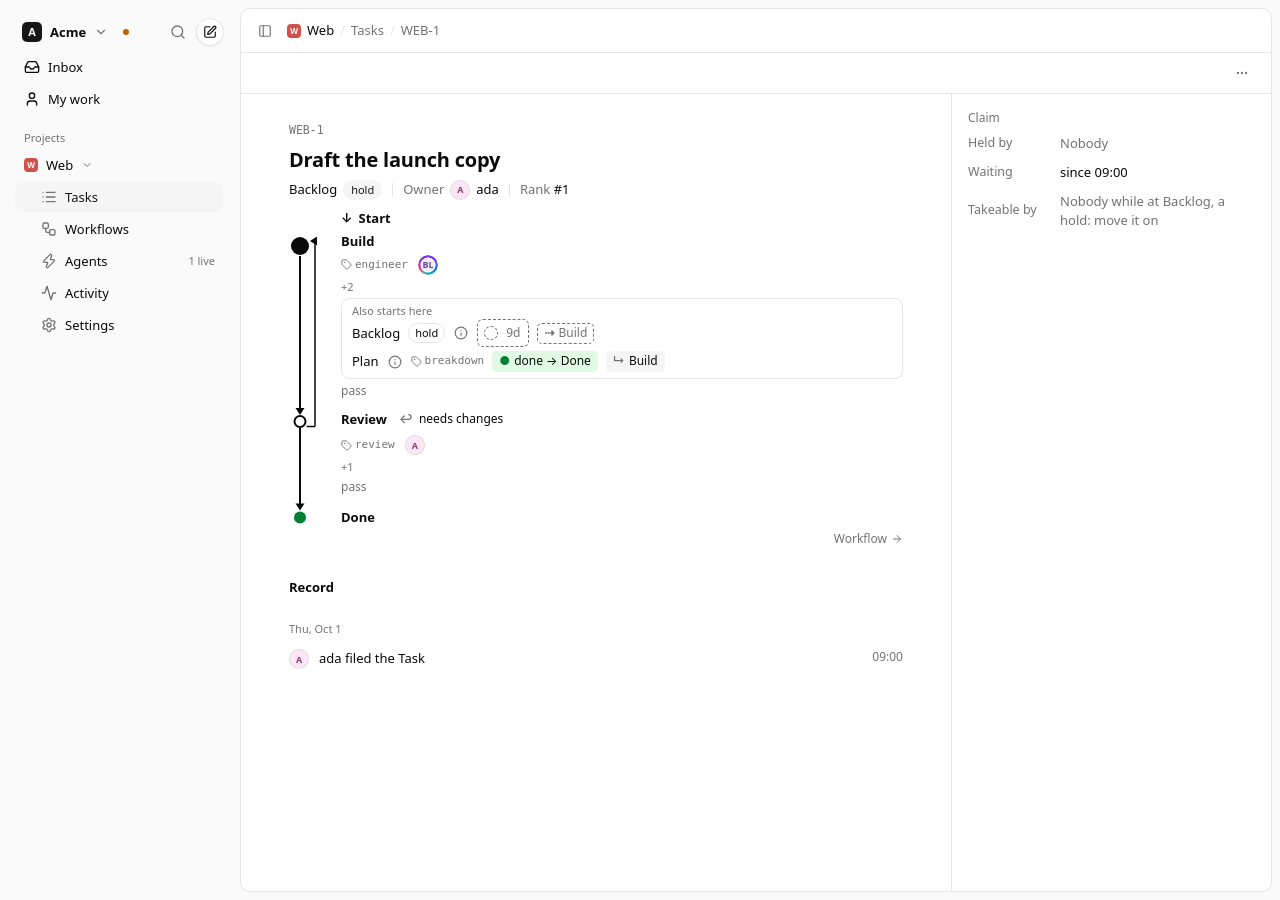
Test: a Task's page › dims Drop for anyone but the Owner
The image size is (1280, 900).
Expected: the heading "Draft the launch copy" is shown, [289, 146, 500, 173]
What coordinates should you click on to do the following:
click the button named "More"
I would click on:
 (1242, 73)
Its box is [1229, 60, 1255, 86].
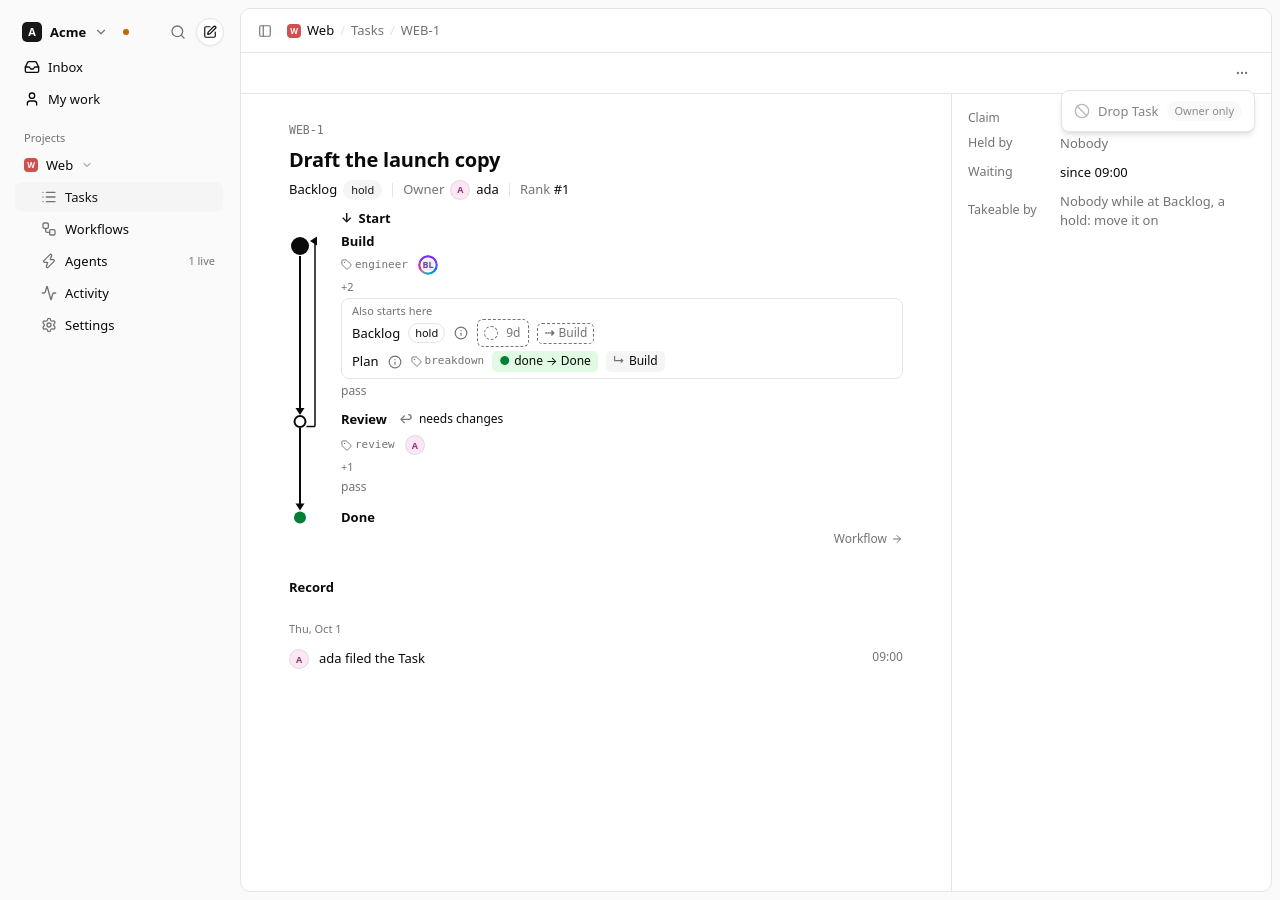
Now the menu item "Drop Task Owner only" is shown, box [1066, 95, 1250, 127]
